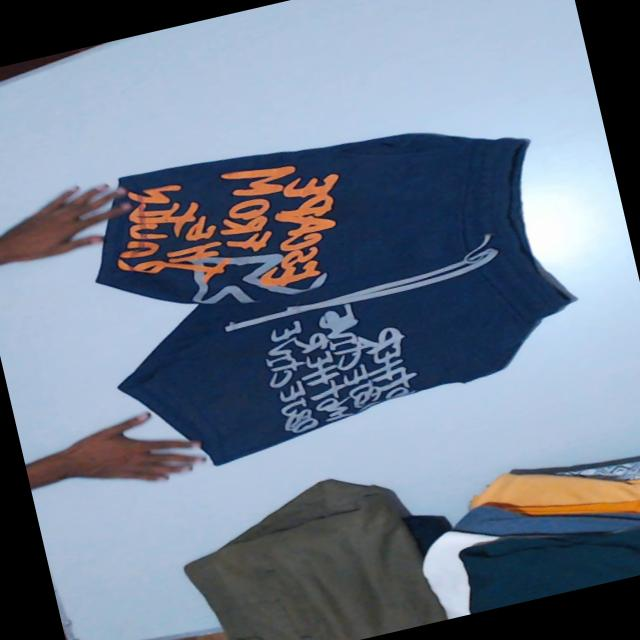new-garment: (96, 133, 572, 464)
